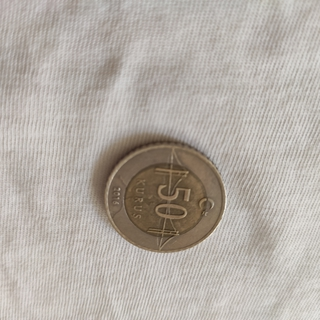50KURUS: (102, 139, 227, 253)
